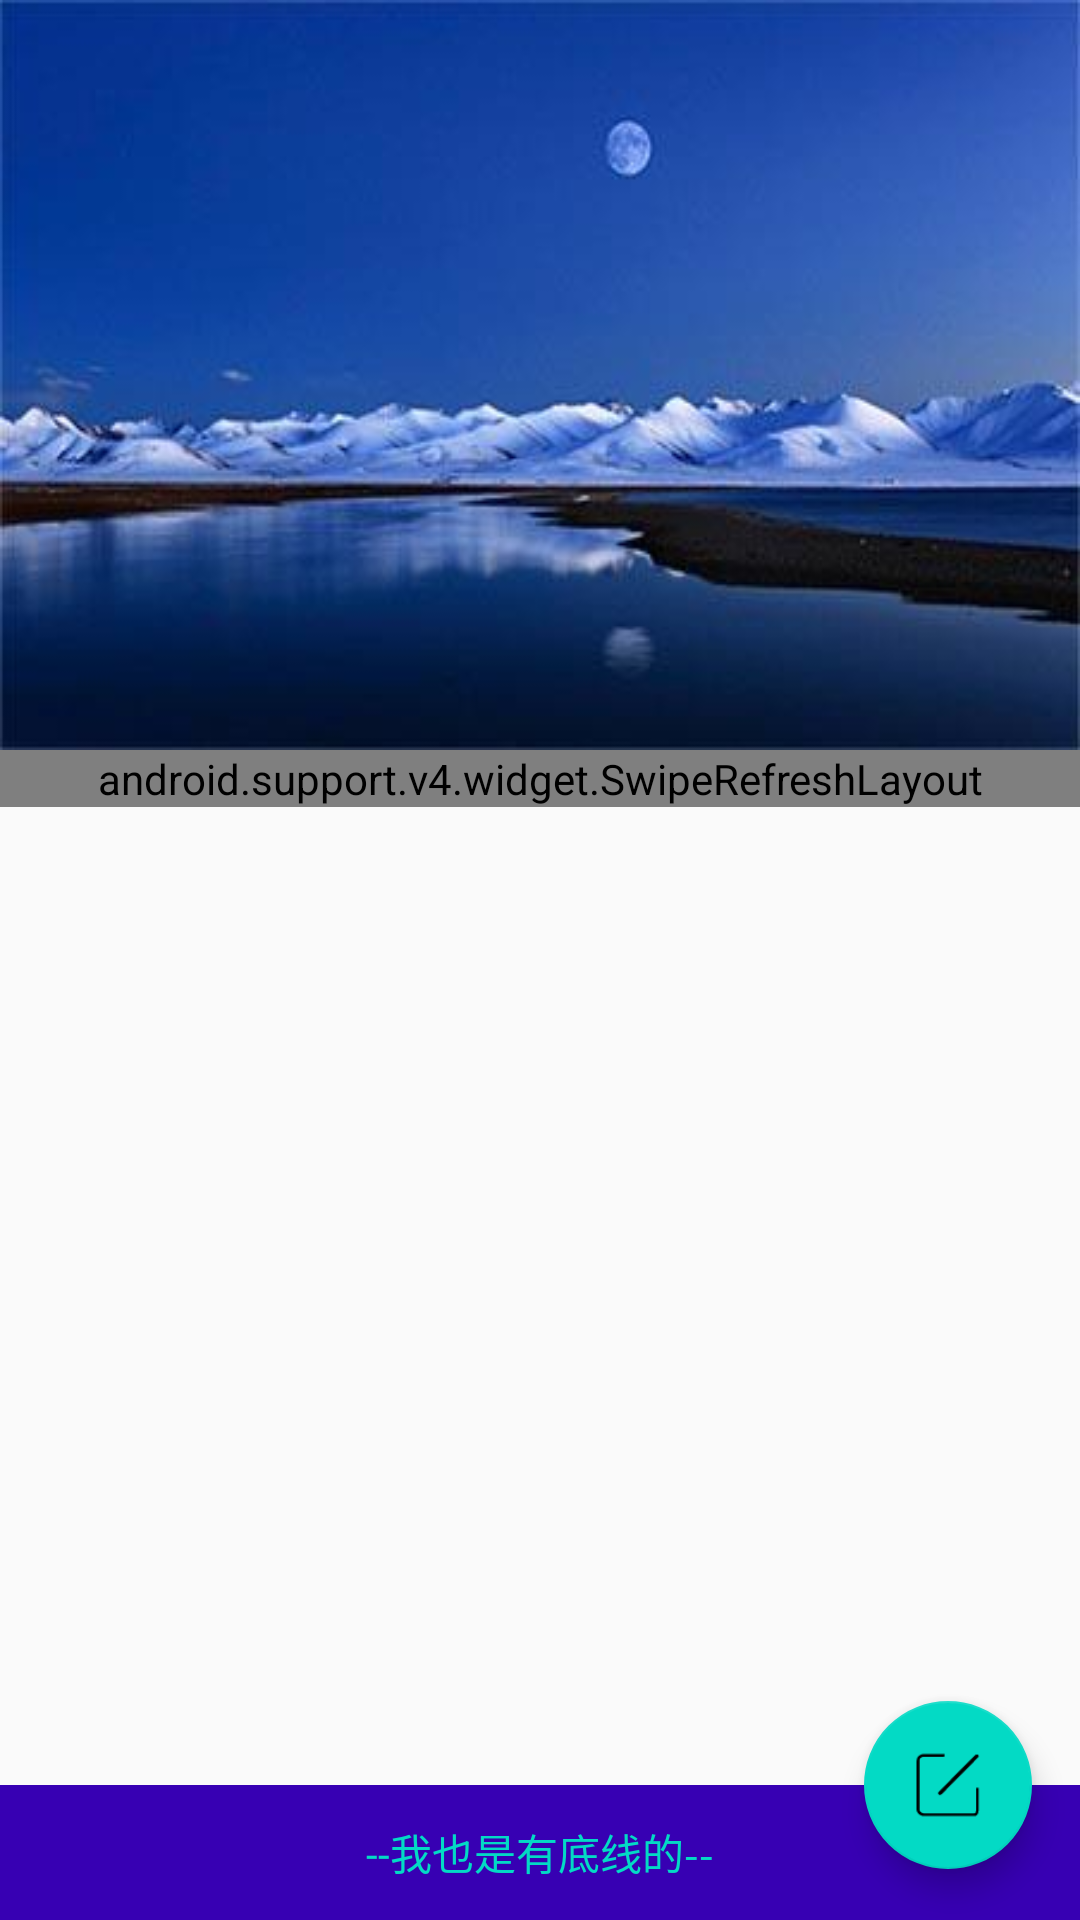

Screen size 1080w x 1920h. Icon name, then its center in pixels as (x=x, y=y):
edit: (x=948, y=1785)
